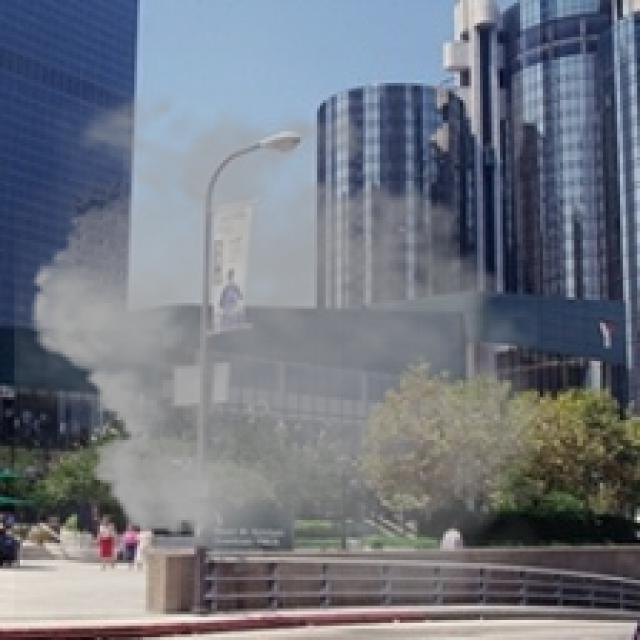Smoke: (14, 77, 583, 620)
